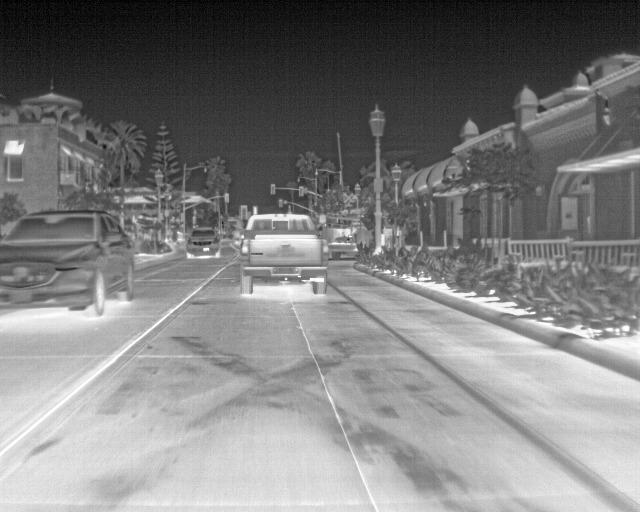car: (0, 210, 137, 315), (239, 214, 328, 295), (320, 214, 375, 259), (185, 227, 221, 259)
light: (225, 193, 229, 203), (271, 184, 275, 194), (299, 187, 303, 196), (279, 200, 282, 207)
sign: (374, 178, 383, 192)
